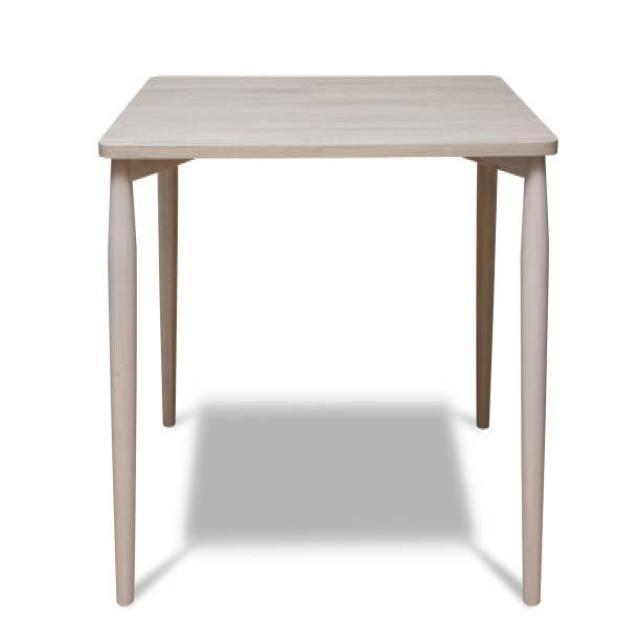table: (98, 72, 558, 609)
